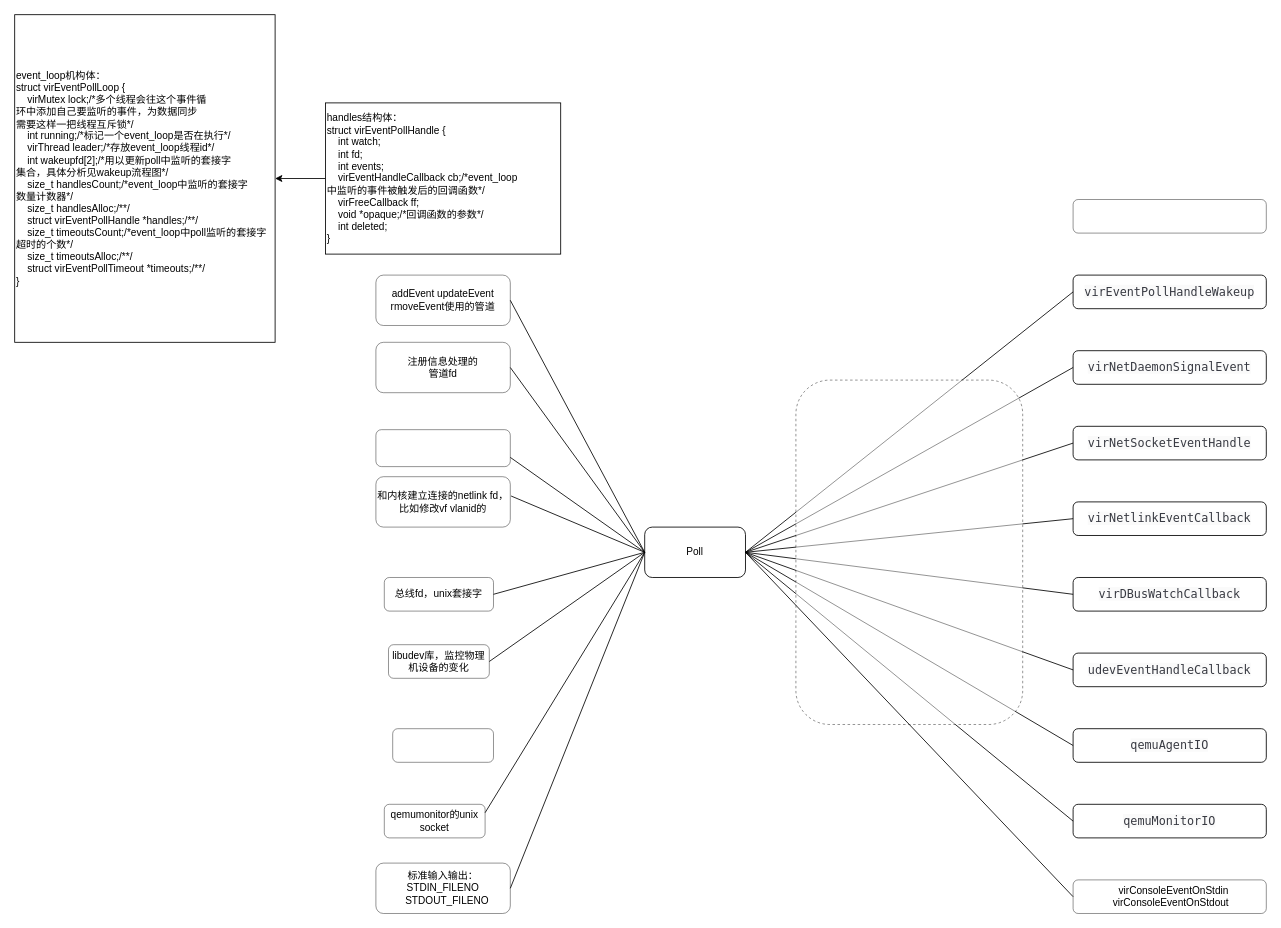
Image size: 1281x928. Some labels were removed from this diagram. Here are the shapes that lost their labels. From the top down, the centre of each, then its label:
pixel 1169 216: virFDStreamEvent
pixel 442 448: 和libvirtd连接的socket的fd
pixel 909 551: addHandleImpl-->virEventPollAddHandle
pixel 443 745: qemu agent socket
